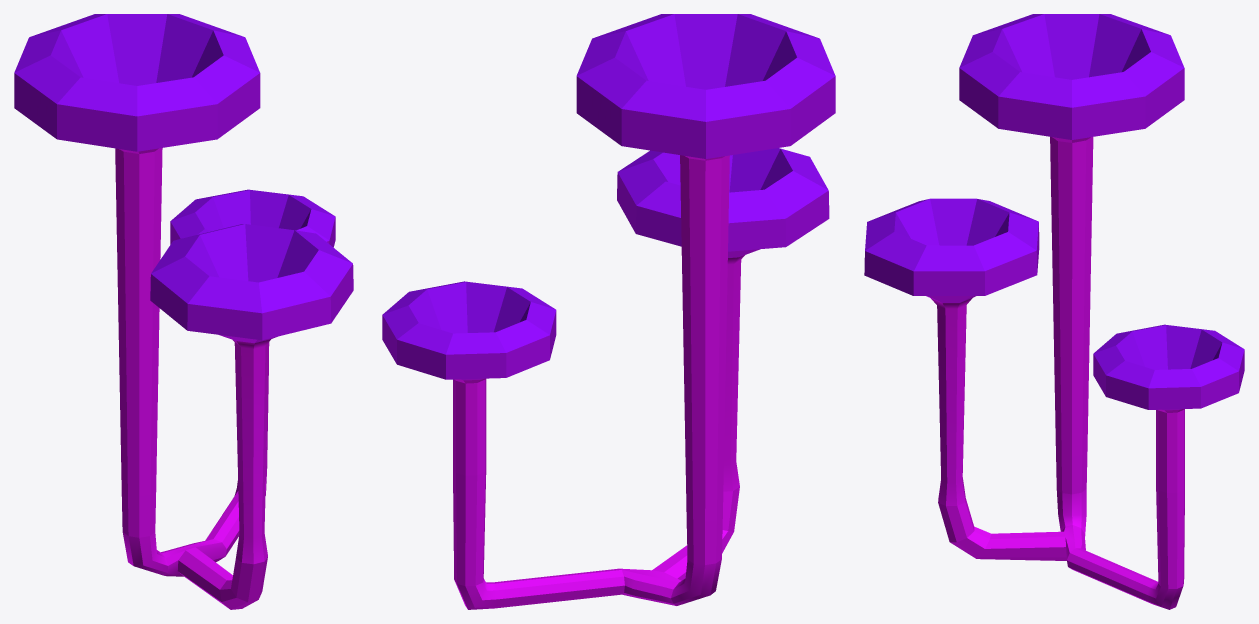
The model's file is plante_3_etape_3.fbx.
The picture shows the model from 3 angles, left to right: view 1: azimuth 30°, elevation 25°; view 2: azimuth 150°, elevation 25°; view 3: azimuth 270°, elevation 25°; orthographic projection. The views are drawn at different scales.
Visible parts, largest first — view 1: stage_3; view 2: stage_3; view 3: stage_3.
Boxes of the visible parts, box(x1,y1,x2,y2) form: stage_3: box(14, 14, 353, 609); stage_3: box(382, 14, 835, 609); stage_3: box(864, 14, 1244, 609).
Size of the model in its own units: 3.77 by 5.64 by 3.96.
